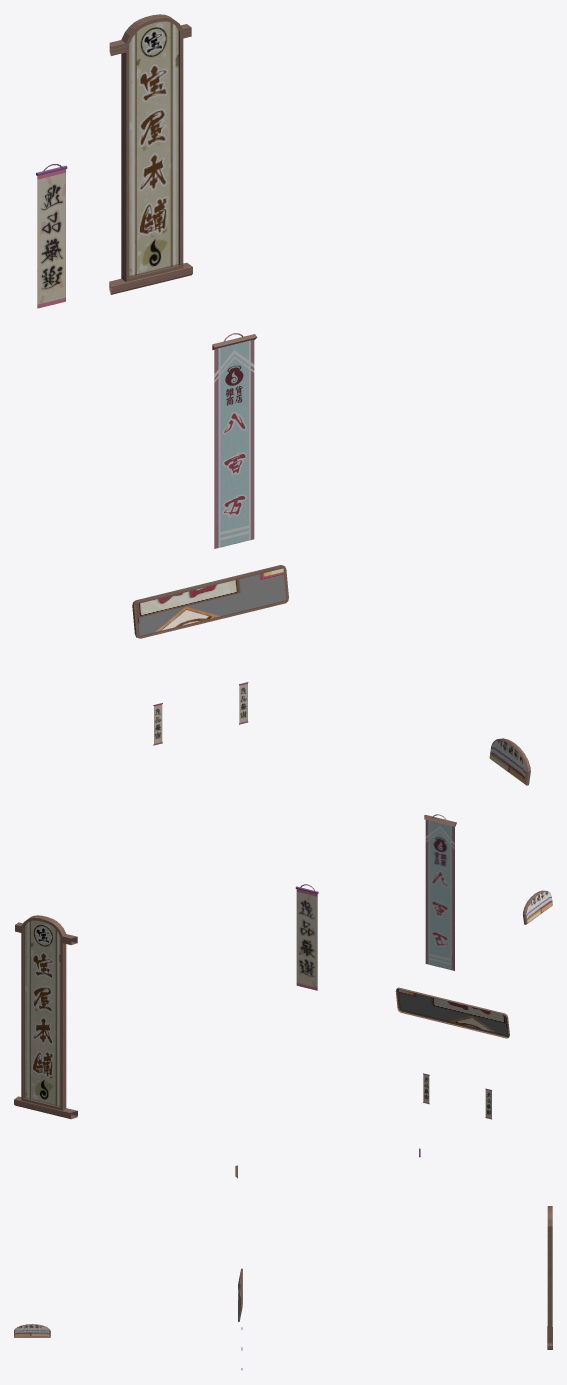
Rendered from SM_ENV_KNVLLG_Signs_8.fbx.
The picture shows the model from 3 angles, top to bottom: view 1: azimuth 30°, elevation 25°; view 2: azimuth 150°, elevation 25°; view 3: azimuth 270°, elevation 25°; orthographic projection. The views are drawn at different scales.
Parts seen in each view (by area): view 1: SM_ENV_KNVLLG_Signs_8.mo; view 2: SM_ENV_KNVLLG_Signs_8.mo; view 3: SM_ENV_KNVLLG_Signs_8.mo.
Part boxes in pixels (x1,y1,x2,y2): SM_ENV_KNVLLG_Signs_8.mo: (36, 14, 530, 785); SM_ENV_KNVLLG_Signs_8.mo: (14, 814, 552, 1119); SM_ENV_KNVLLG_Signs_8.mo: (14, 1148, 552, 1370).
Bounding box in the file's own units: 2620 × 2967 × 6689.
